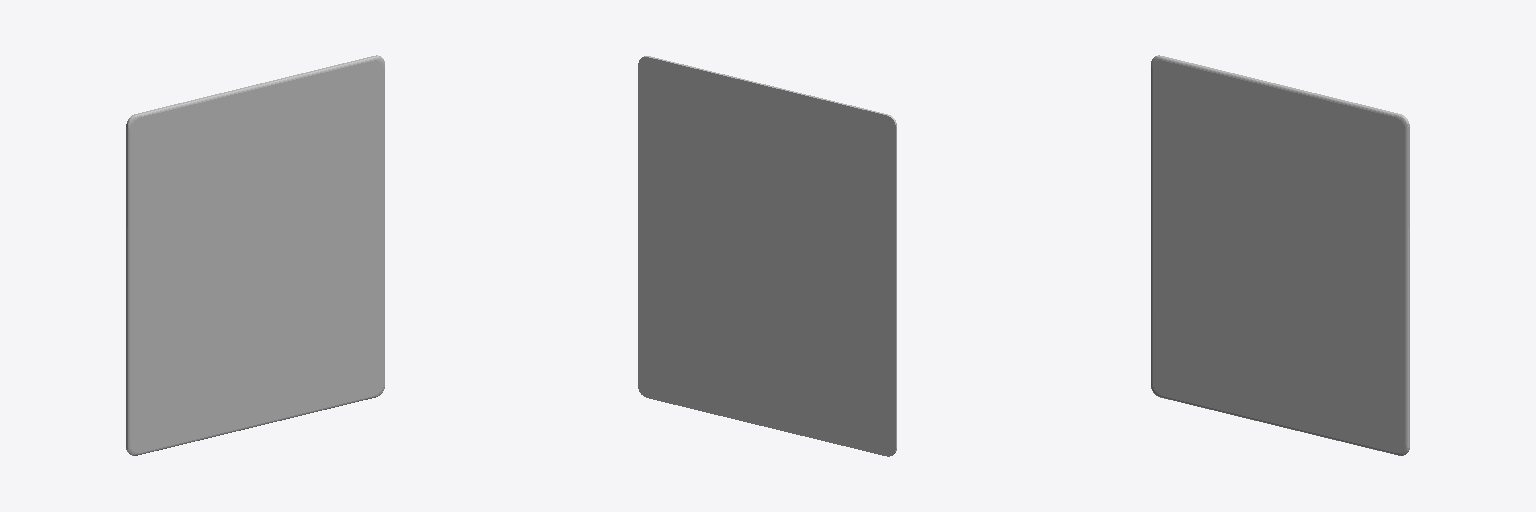
Rendered from UI_button1.obj.
The picture shows the model from 3 angles: view 1: azimuth 30°, elevation 25°; view 2: azimuth 150°, elevation 25°; view 3: azimuth 330°, elevation 25°; orthographic projection.
Visible parts, largest first — view 1: UI_button1; view 2: UI_button1; view 3: UI_button1.
Boxes of the visible parts, box(x1,y1,x2,y2) form: UI_button1: box(126, 55, 384, 455); UI_button1: box(638, 56, 896, 456); UI_button1: box(1151, 55, 1409, 455).
Bounding box in the file's own units: 0.2626 × 0.3322 × 0.004.